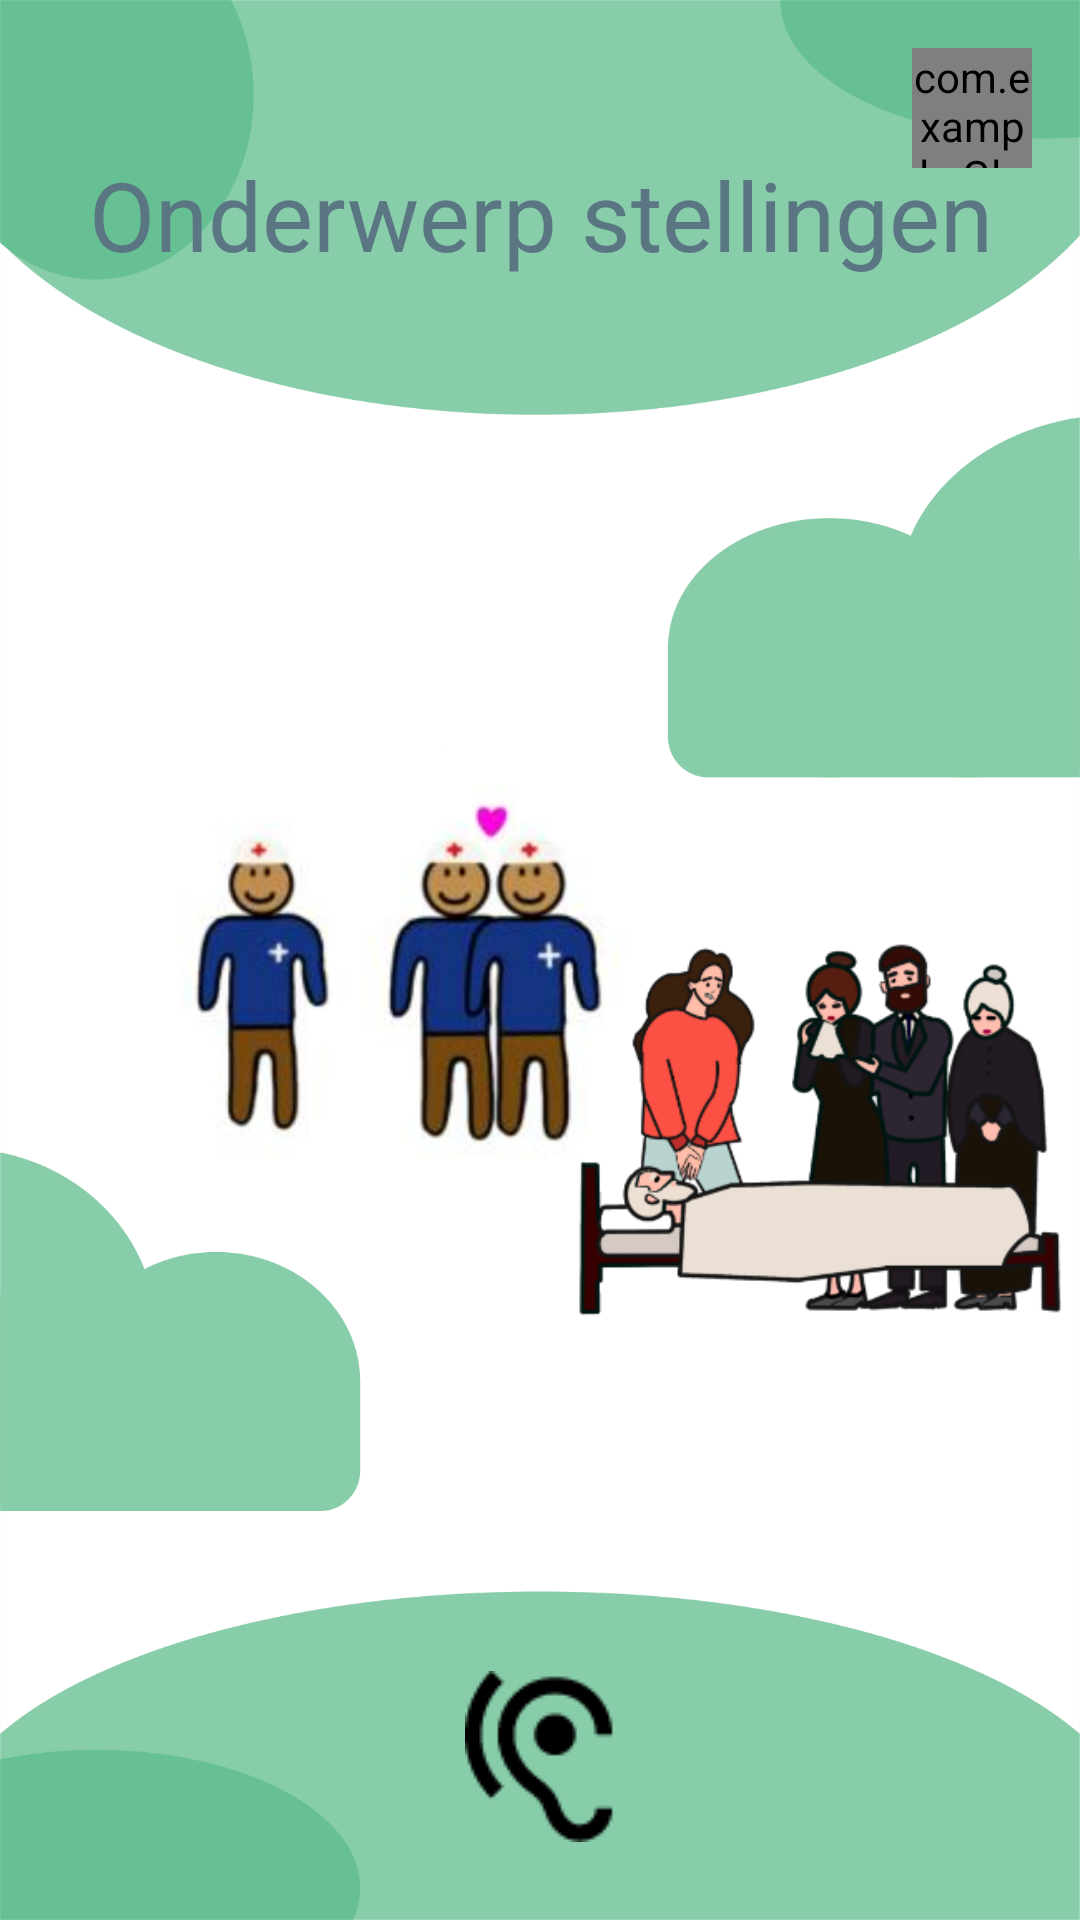

Where to tap for icons on this 1080px x 1920px app screen, as (x=x, y=y):
pictogram oortje: (x=539, y=1756)
